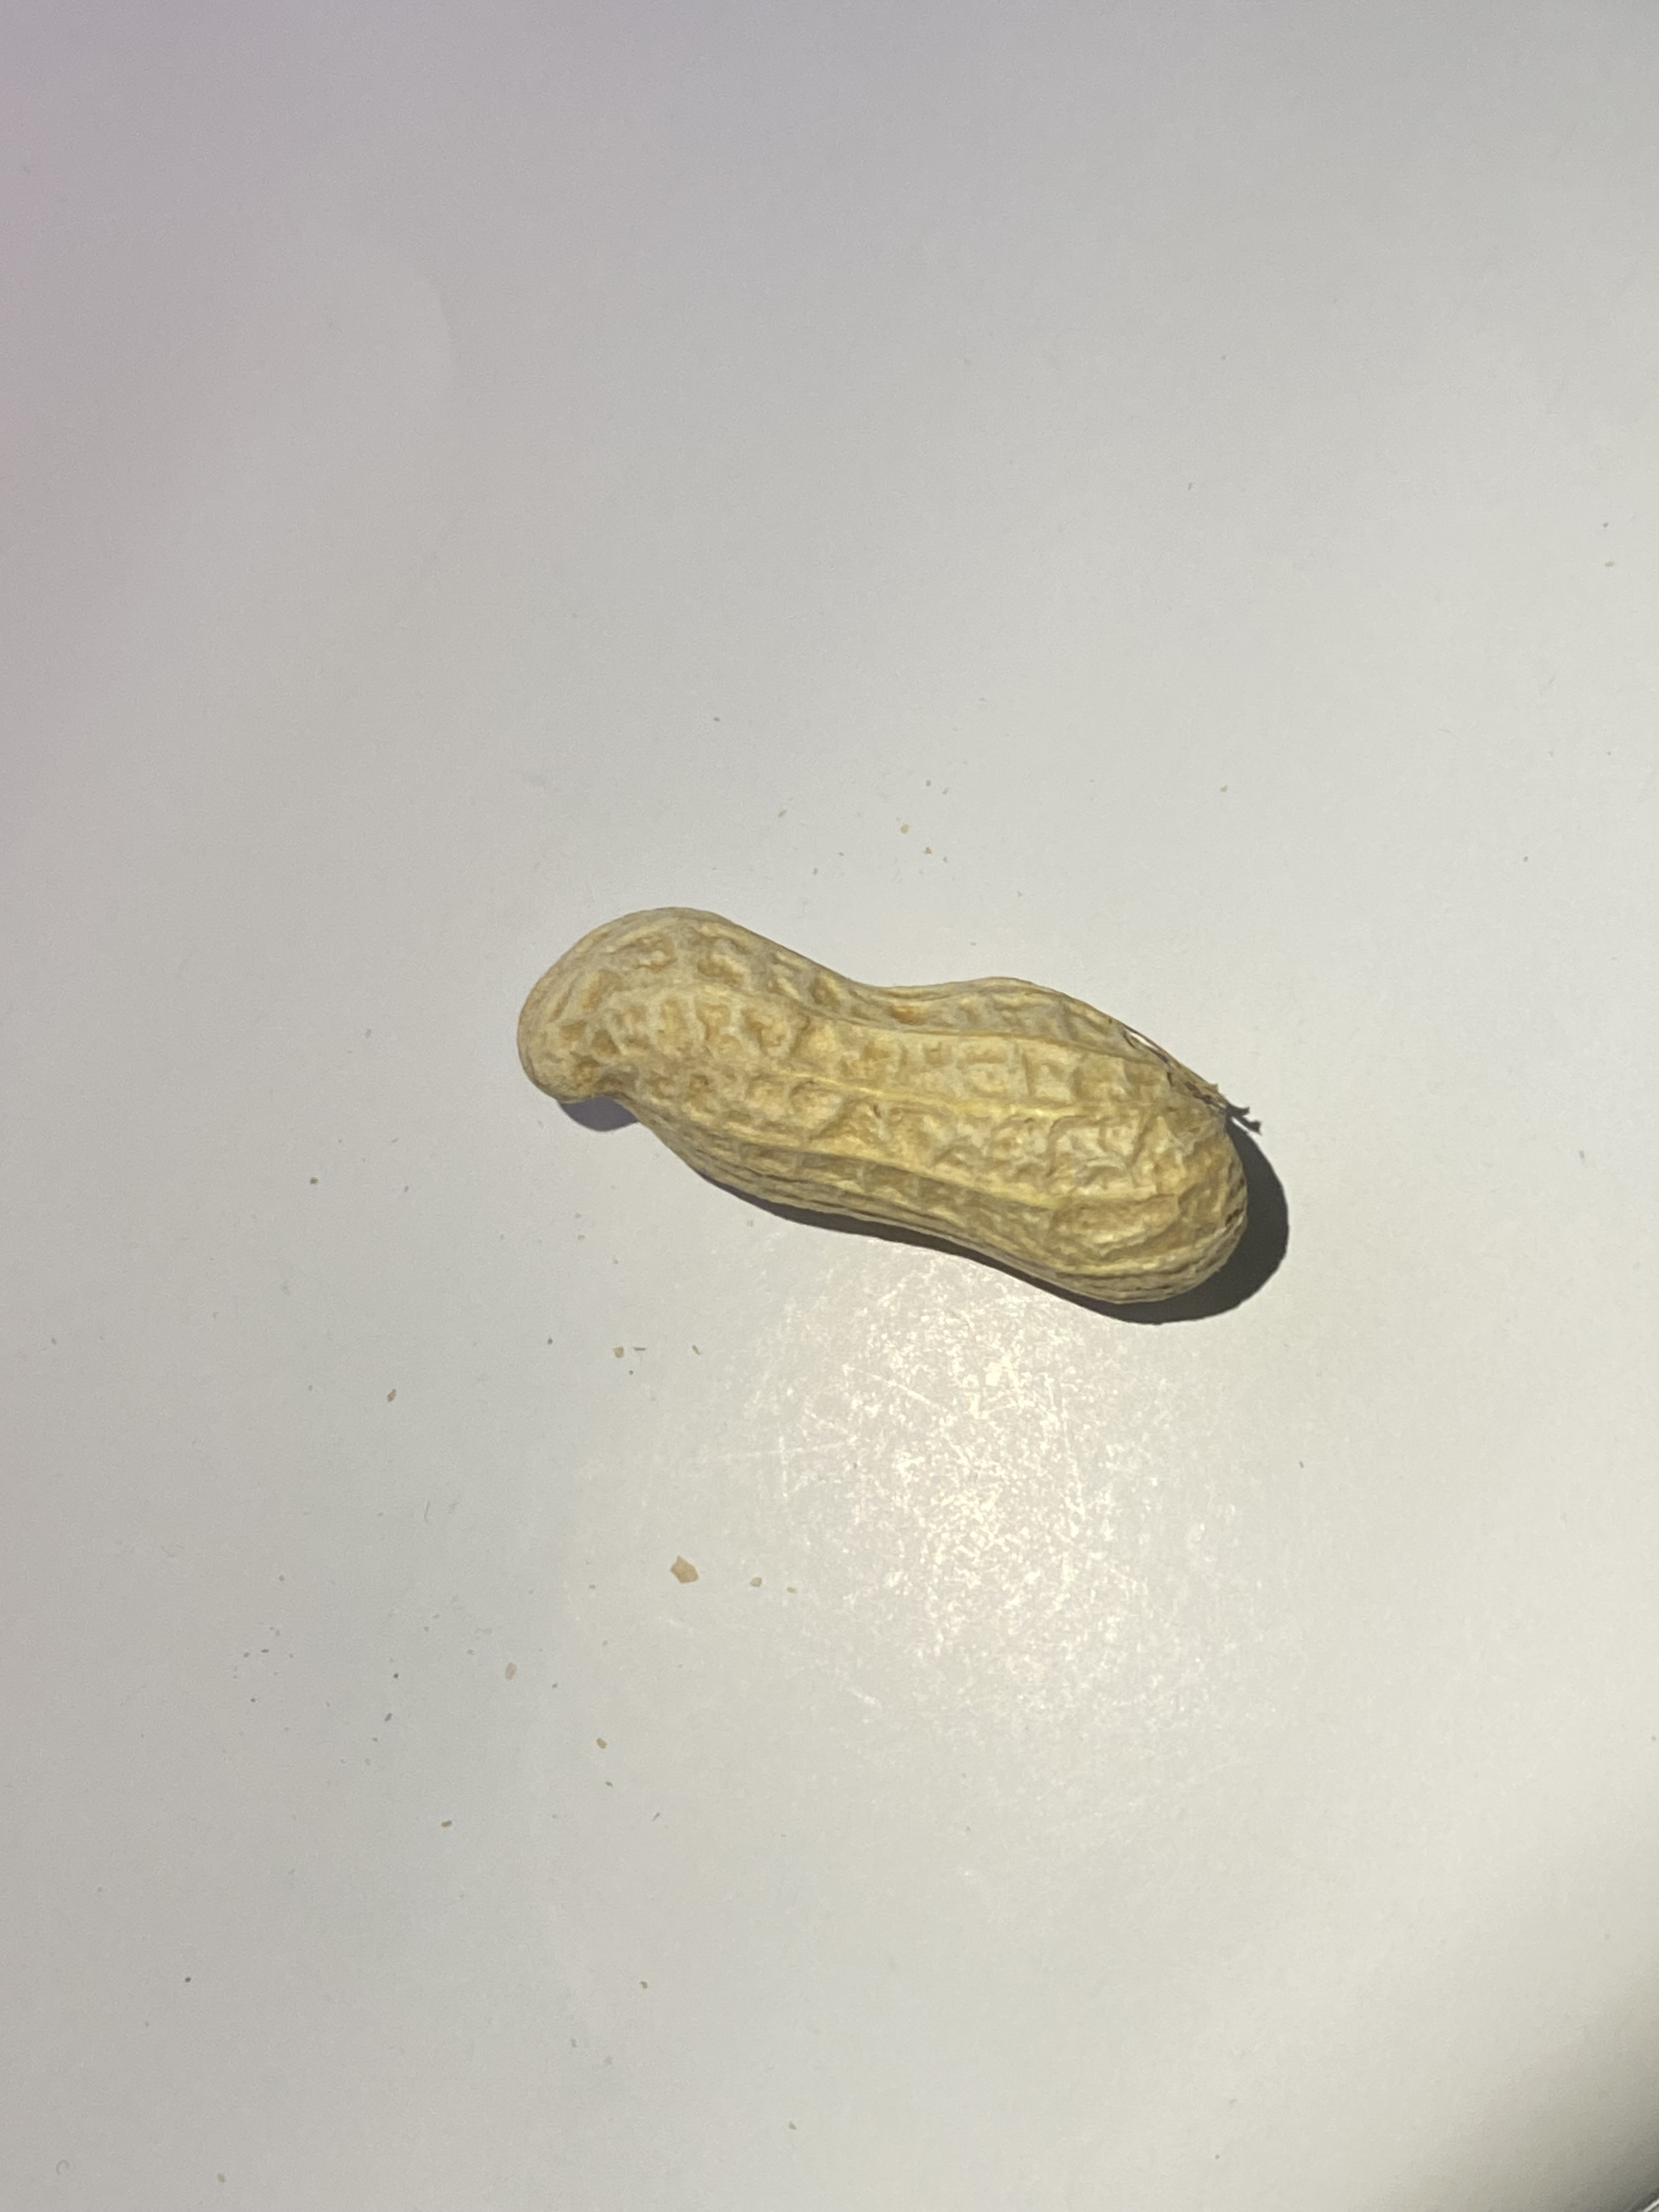kacang2: (474, 829, 1304, 1371)
